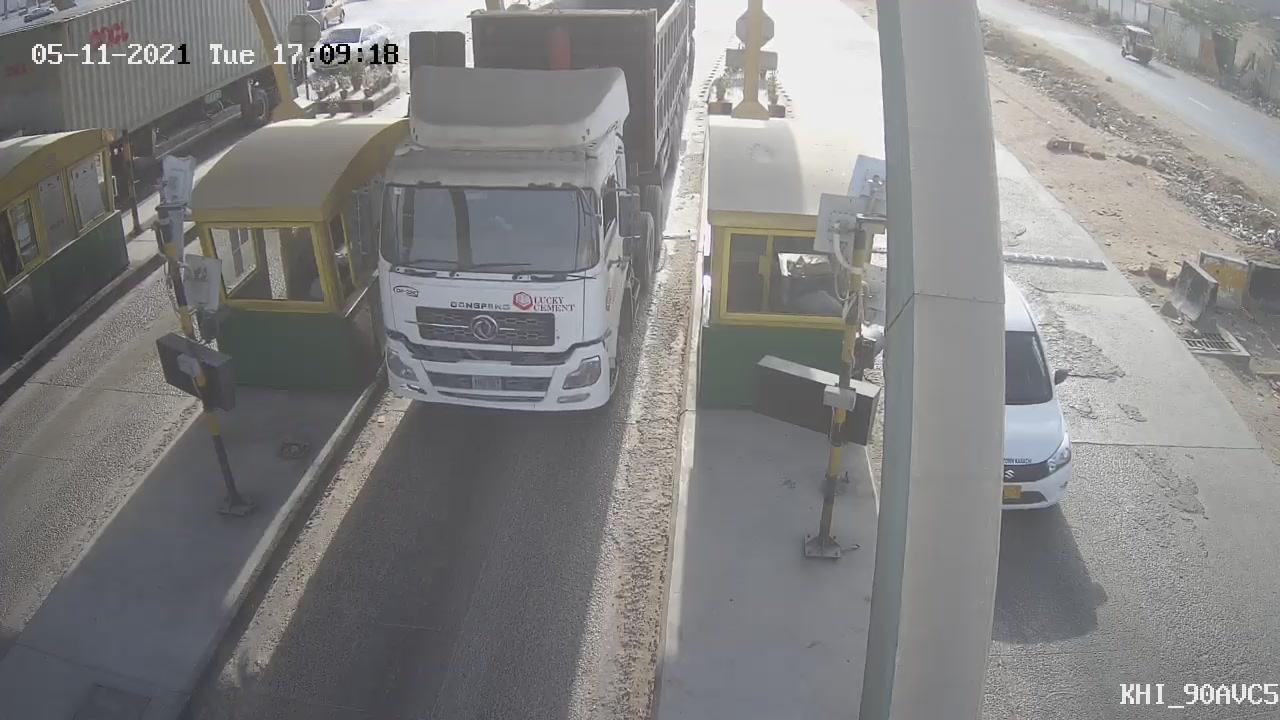F6: (329, 3, 711, 448)
